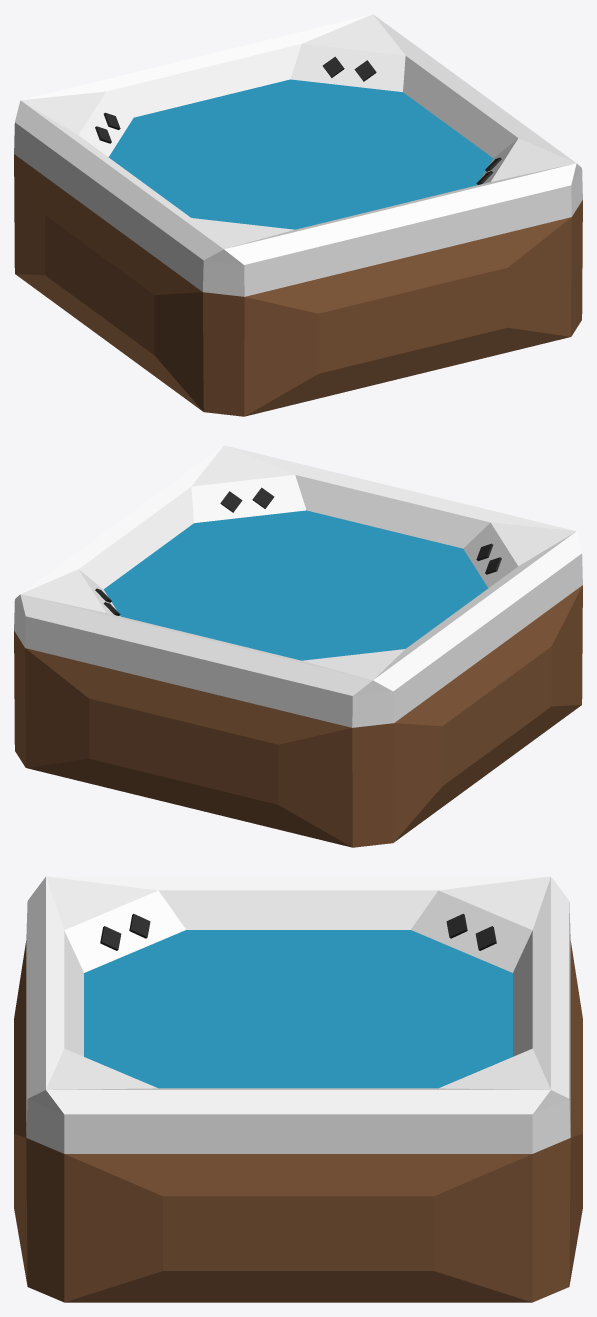
Rendered from furniture_hot-tub.fbx.
The picture shows the model from 3 angles, top to bottom: view 1: azimuth 30°, elevation 25°; view 2: azimuth 150°, elevation 25°; view 3: azimuth 270°, elevation 25°; orthographic projection. The views are drawn at different scales.
Parts seen in each view (by area): view 1: furniture_hot_tub; view 2: furniture_hot_tub; view 3: furniture_hot_tub.
Boxes of the visible parts, x1=… form: furniture_hot_tub: x1=14, y1=14, x2=582, y2=416; furniture_hot_tub: x1=14, y1=445, x2=582, y2=847; furniture_hot_tub: x1=14, y1=876, x2=582, y2=1302.
Size of the model in its own units: 200 by 79.43 by 200.
